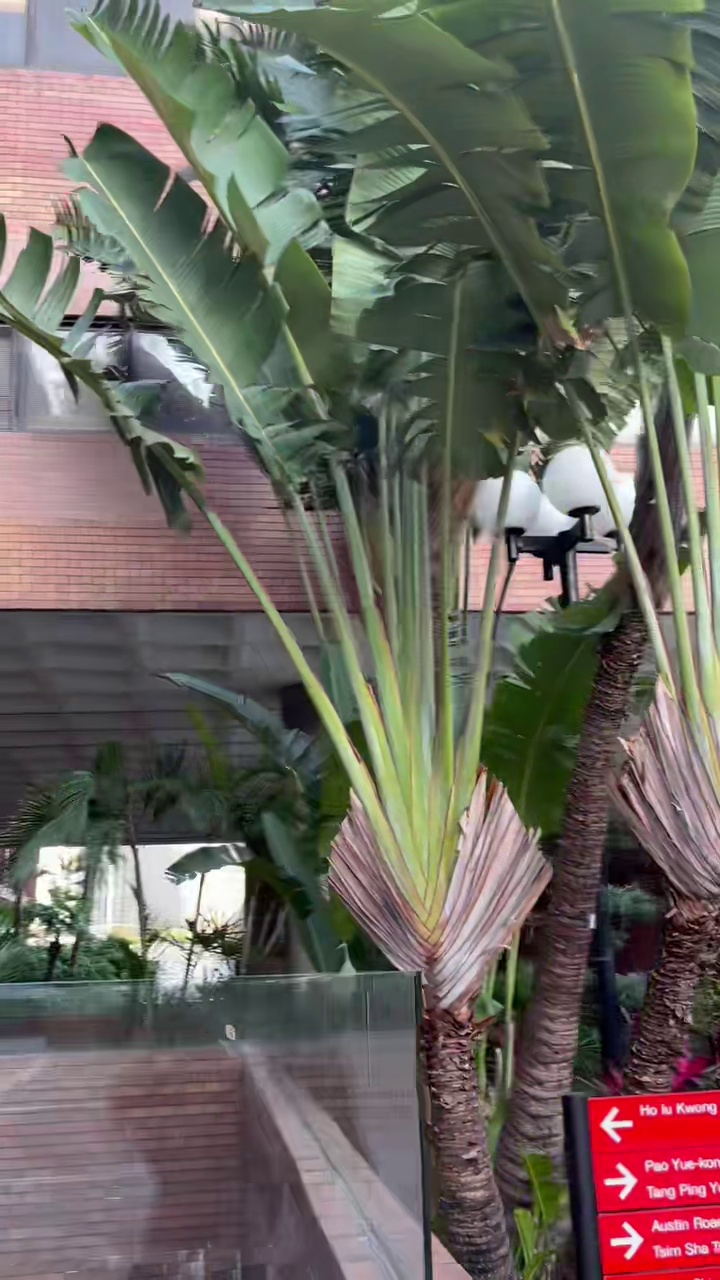Travellers-tree: (66, 0, 573, 1279)
